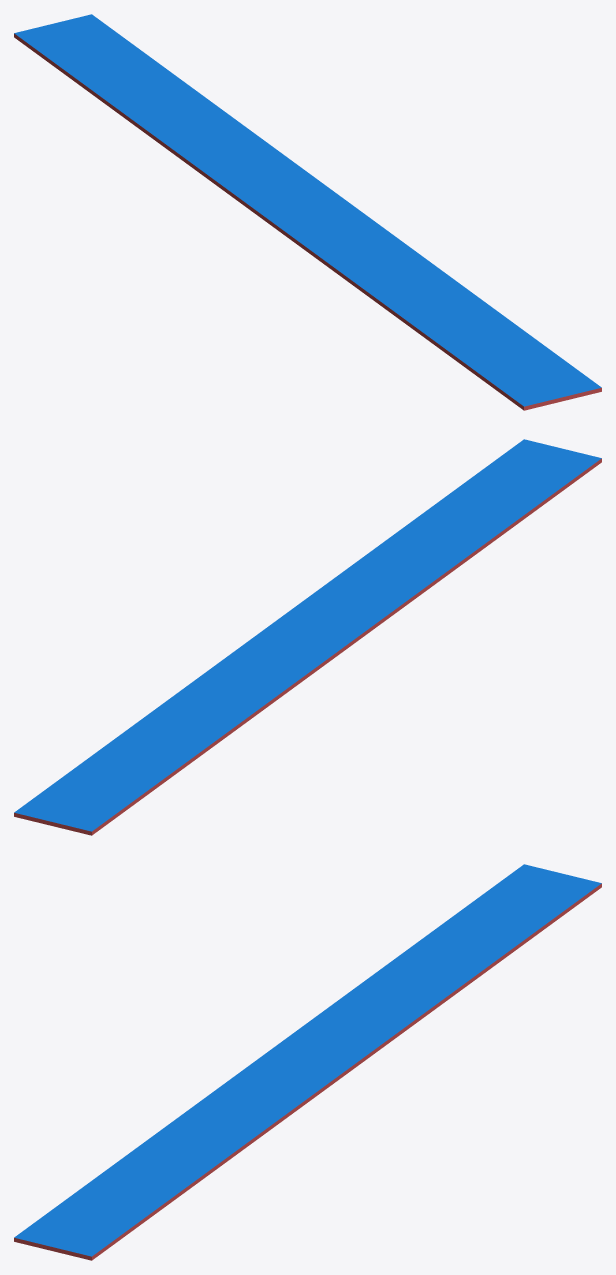
File: Line_Field_Object.fbx
3 renders of one model, top to bottom at view 1: azimuth 30°, elevation 25°; view 2: azimuth 150°, elevation 25°; view 3: azimuth 330°, elevation 25°, orthographic.
Visible parts, largest first — view 1: Line_Field_Object; view 2: Line_Field_Object; view 3: Line_Field_Object.
Boxes of the visible parts, x1,y1,x2,y2 form: Line_Field_Object: (14,14,601,410); Line_Field_Object: (14,439,601,835); Line_Field_Object: (14,864,601,1260).
Size of the model in its own units: 0.0508 by 0.00254 by 0.5766.
